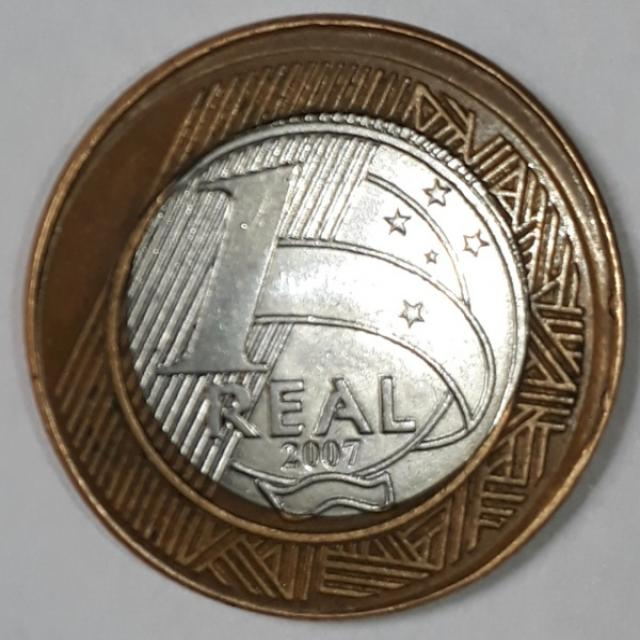1 real: (25, 16, 628, 616)
